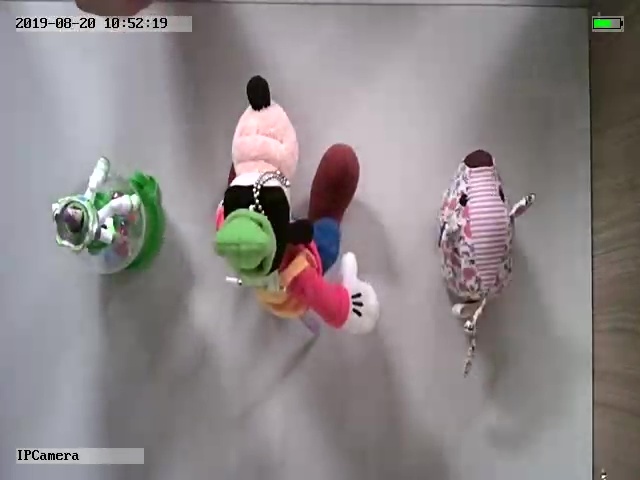buzz: (48, 154, 167, 275)
goofy: (210, 74, 380, 335)
pig: (437, 149, 536, 380)
